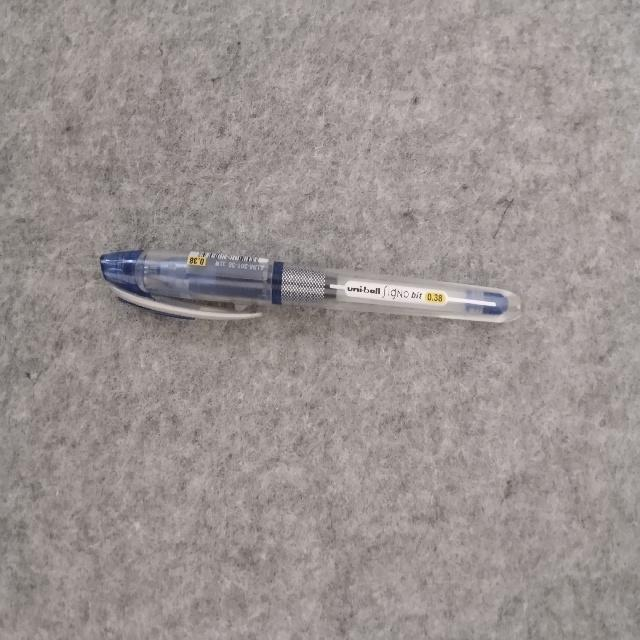pen: (100, 250, 520, 321)
